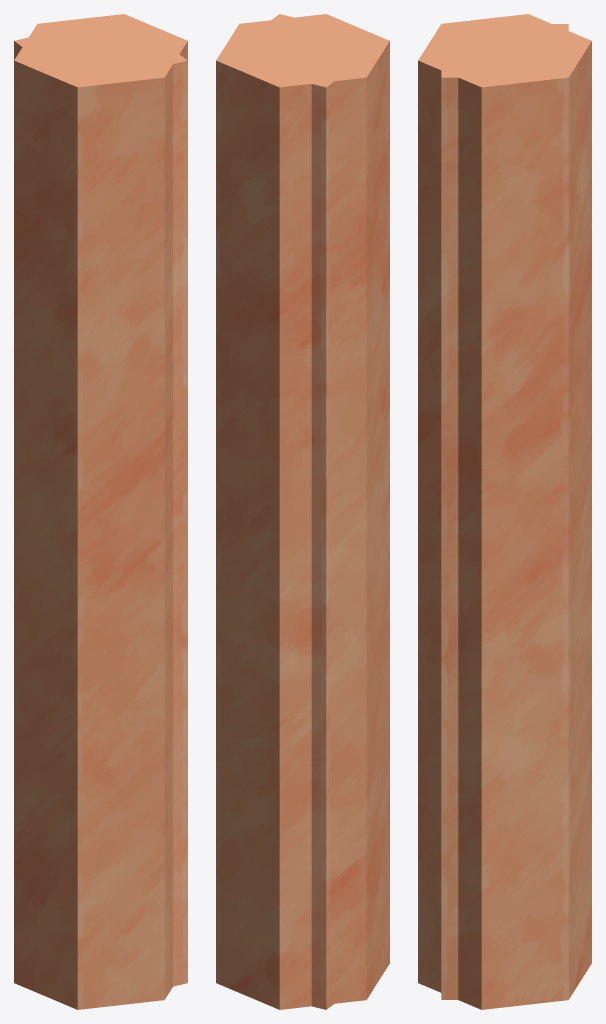
File: corner_upper.bundle.fbx
3 views of the same model, side by side, from view 1: azimuth 30°, elevation 25°; view 2: azimuth 150°, elevation 25°; view 3: azimuth 270°, elevation 25° (orthographic).
Visible parts, largest first — view 1: corner_upper_low, corner_upper, corner_upper_s02, corner_upper_s00, corner_upper_s01, corner_upper_s03; view 2: corner_upper_low, corner_upper, corner_upper_s00, corner_upper_s01, corner_upper_s03; view 3: corner_upper_low, corner_upper, corner_upper_s01, corner_upper_s02, corner_upper_s03, corner_upper_s00.
Part boxes in pixels (x1,y1,x2,y2): corner_upper_low: [14, 14, 187, 1009]; corner_upper: [14, 14, 187, 986]; corner_upper_s02: [173, 391, 187, 706]; corner_upper_s00: [173, 704, 187, 986]; corner_upper_s01: [14, 43, 187, 296]; corner_upper_s03: [173, 291, 187, 400]; corner_upper_low: [216, 14, 389, 1009]; corner_upper: [217, 14, 389, 1009]; corner_upper_s00: [311, 707, 334, 1008]; corner_upper_s01: [311, 84, 334, 285]; corner_upper_s03: [311, 274, 334, 480]; corner_upper_low: [418, 14, 591, 1009]; corner_upper: [441, 24, 568, 999]; corner_upper_s01: [441, 77, 458, 317]; corner_upper_s02: [441, 408, 458, 718]; corner_upper_s03: [441, 314, 458, 408]; corner_upper_s00: [441, 720, 458, 999].
Bounding box in the file's own units: 2.05 × 12 × 2.05.
Materials: 1 (1 with a texture image).
